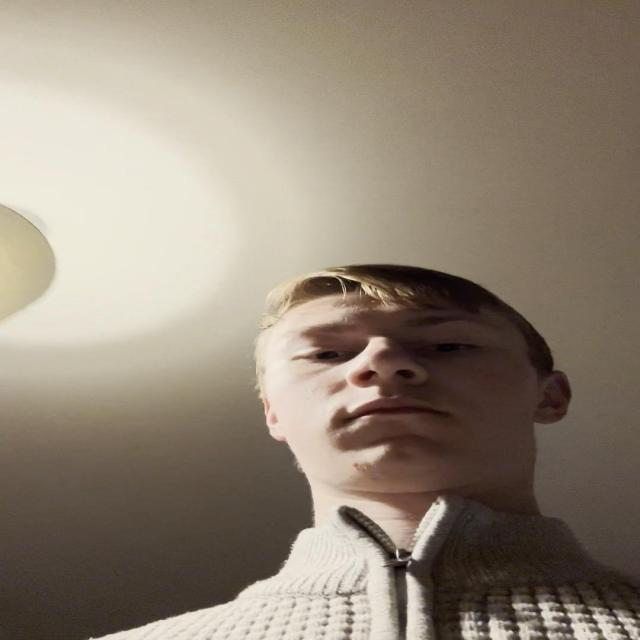no hat: (255, 278, 558, 524)
